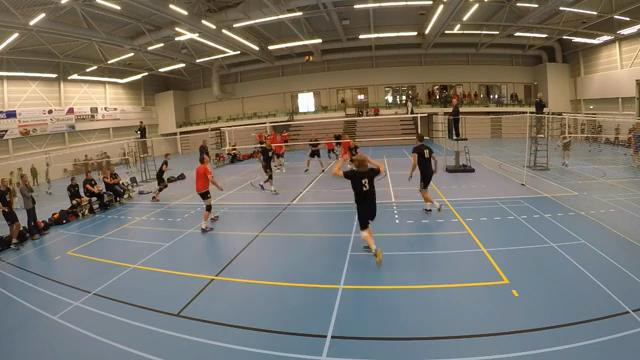difesa: (328, 151, 396, 268)
